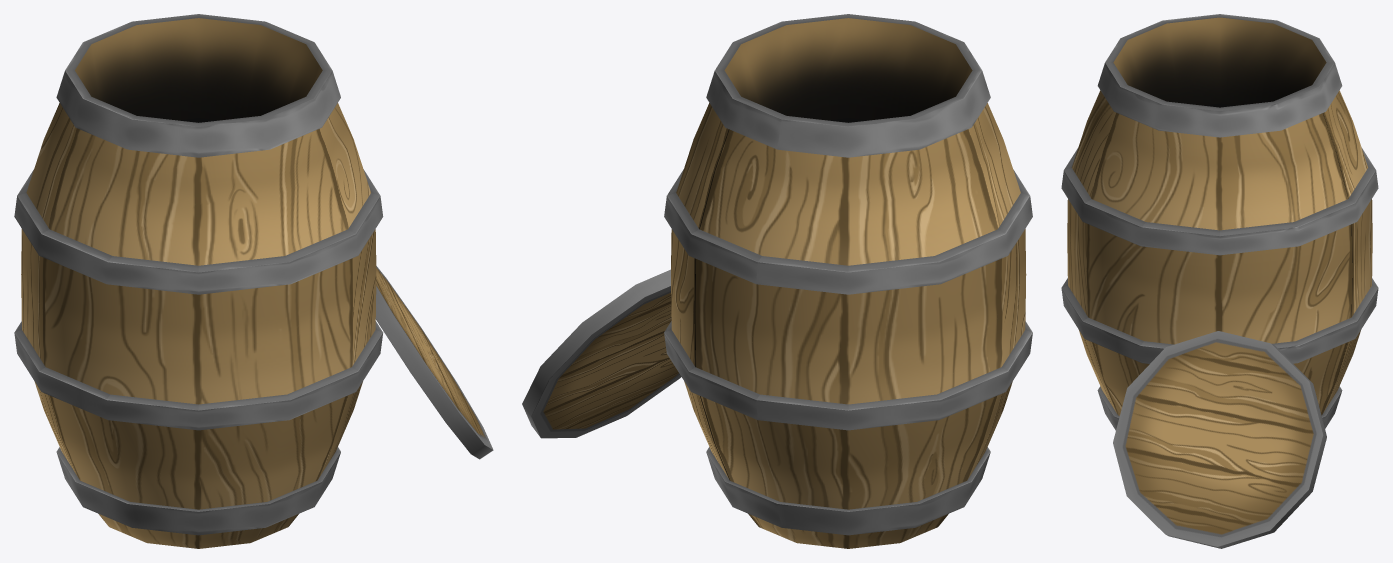
The model's file is Mimic_Mayhem_Barrel_Open.FBX.
The picture shows the model from 3 angles, left to right: view 1: azimuth 30°, elevation 25°; view 2: azimuth 150°, elevation 25°; view 3: azimuth 270°, elevation 25°; orthographic projection. The views are drawn at different scales.
Parts seen in each view (by area): view 1: Cylinder001; view 2: Cylinder001; view 3: Cylinder001.
Boxes of the visible parts, x1,y1,x2,y2 form: Cylinder001: (14,14,493,548); Cylinder001: (522,14,1032,548); Cylinder001: (1061,14,1378,548).
Size of the model in its own units: 18.95 by 17.59 by 13.53.
